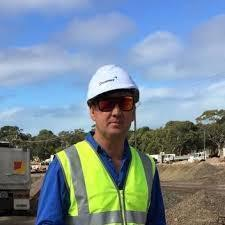helmet: (86, 64, 140, 102)
